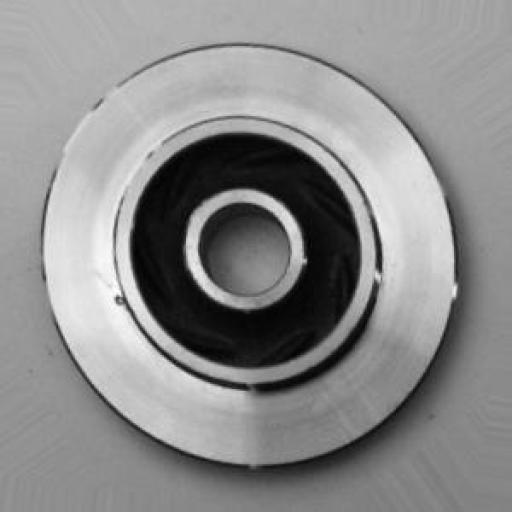defect: (77, 242, 139, 323)
